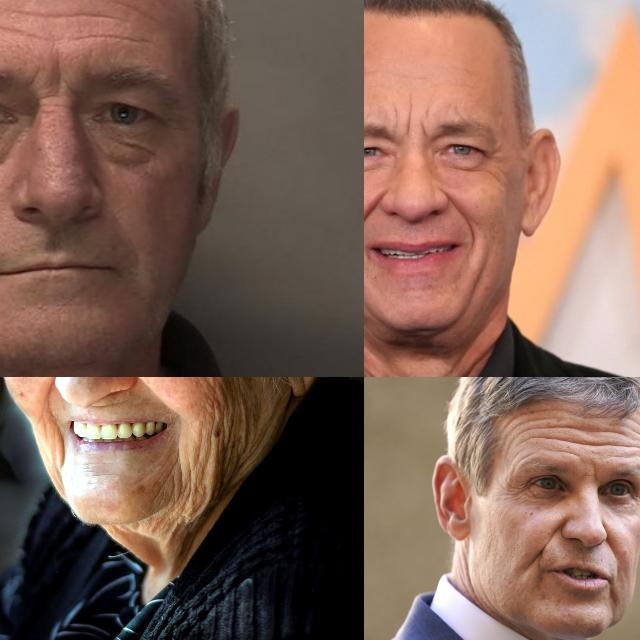chin: (156, 460, 182, 504)
crows_feet: (482, 146, 508, 178), (504, 478, 526, 502)
forehead: (85, 24, 142, 50), (58, 5, 114, 27), (18, 0, 54, 28), (542, 406, 568, 442), (0, 20, 40, 42), (506, 413, 538, 439), (600, 424, 626, 456), (572, 418, 594, 454), (631, 421, 640, 458)
frown_line: (42, 68, 76, 102), (387, 106, 401, 136), (418, 118, 432, 142), (402, 112, 412, 142), (589, 462, 601, 480)
gummy_smile: (130, 377, 173, 413), (40, 377, 65, 428), (445, 194, 473, 234), (364, 194, 381, 239), (540, 519, 558, 555), (604, 531, 622, 555)
masseter: (193, 434, 234, 506), (204, 377, 246, 424)
